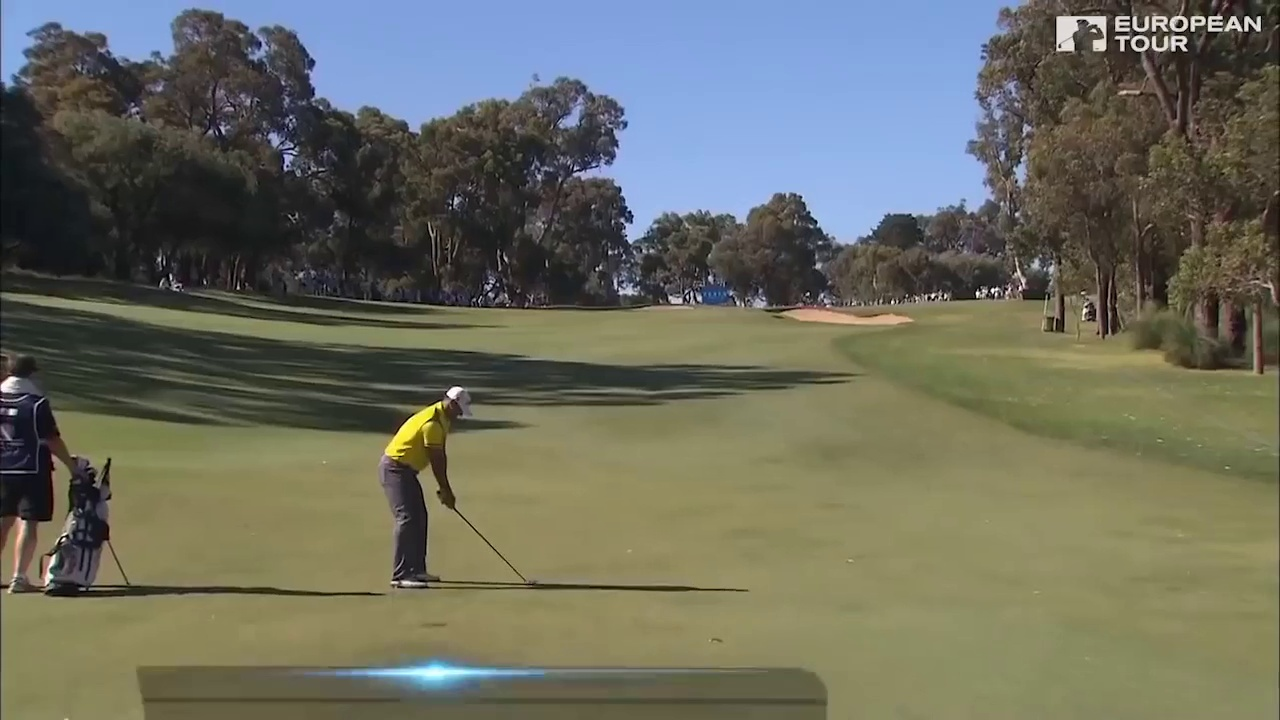normal: (372, 376, 483, 594), (1, 345, 81, 593)
